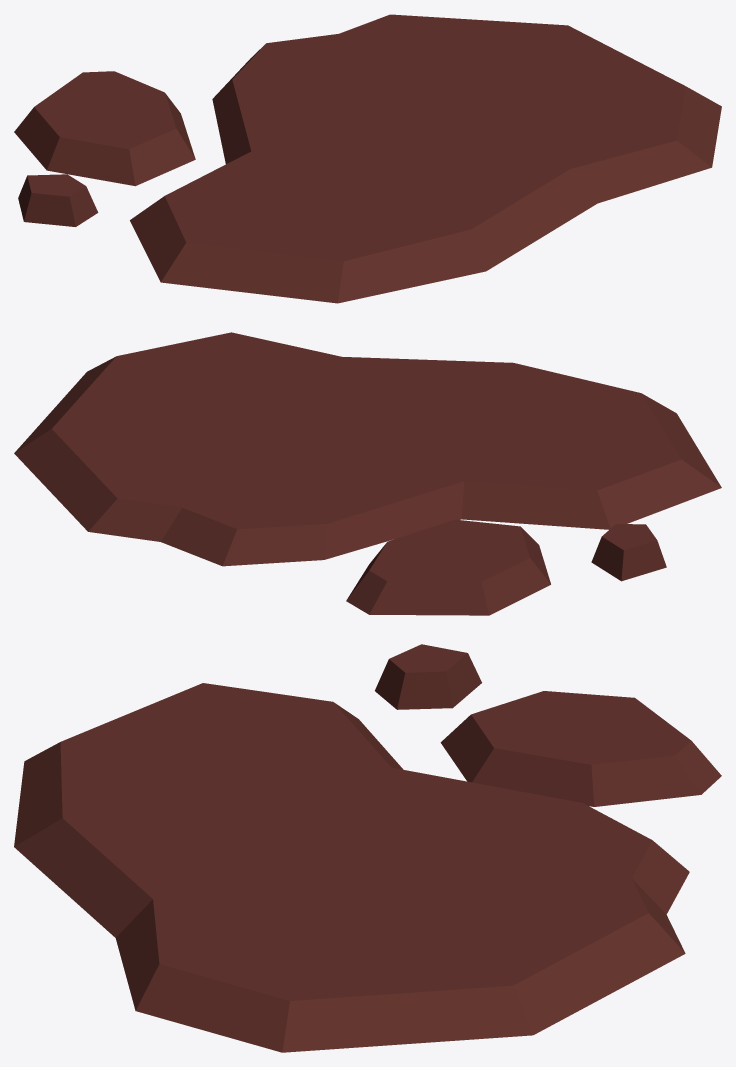
The model's file is SM_Prop_BloodPool_03.glb.
3 views of the same model, one above another, from view 1: azimuth 30°, elevation 25°; view 2: azimuth 150°, elevation 25°; view 3: azimuth 270°, elevation 25° (orthographic). The views are drawn at different scales.
Parts seen in each view (by area): view 1: SM_Prop_BloodPool_03; view 2: SM_Prop_BloodPool_03; view 3: SM_Prop_BloodPool_03.
Part boxes in pixels (box(x1,y1,x2,y2)): SM_Prop_BloodPool_03: box(14, 14, 721, 303); SM_Prop_BloodPool_03: box(14, 332, 721, 615); SM_Prop_BloodPool_03: box(14, 644, 721, 1052).
Bounding box in the file's own units: 1.11 × 0.0432 × 0.8686.
1 material, 1 textured.
